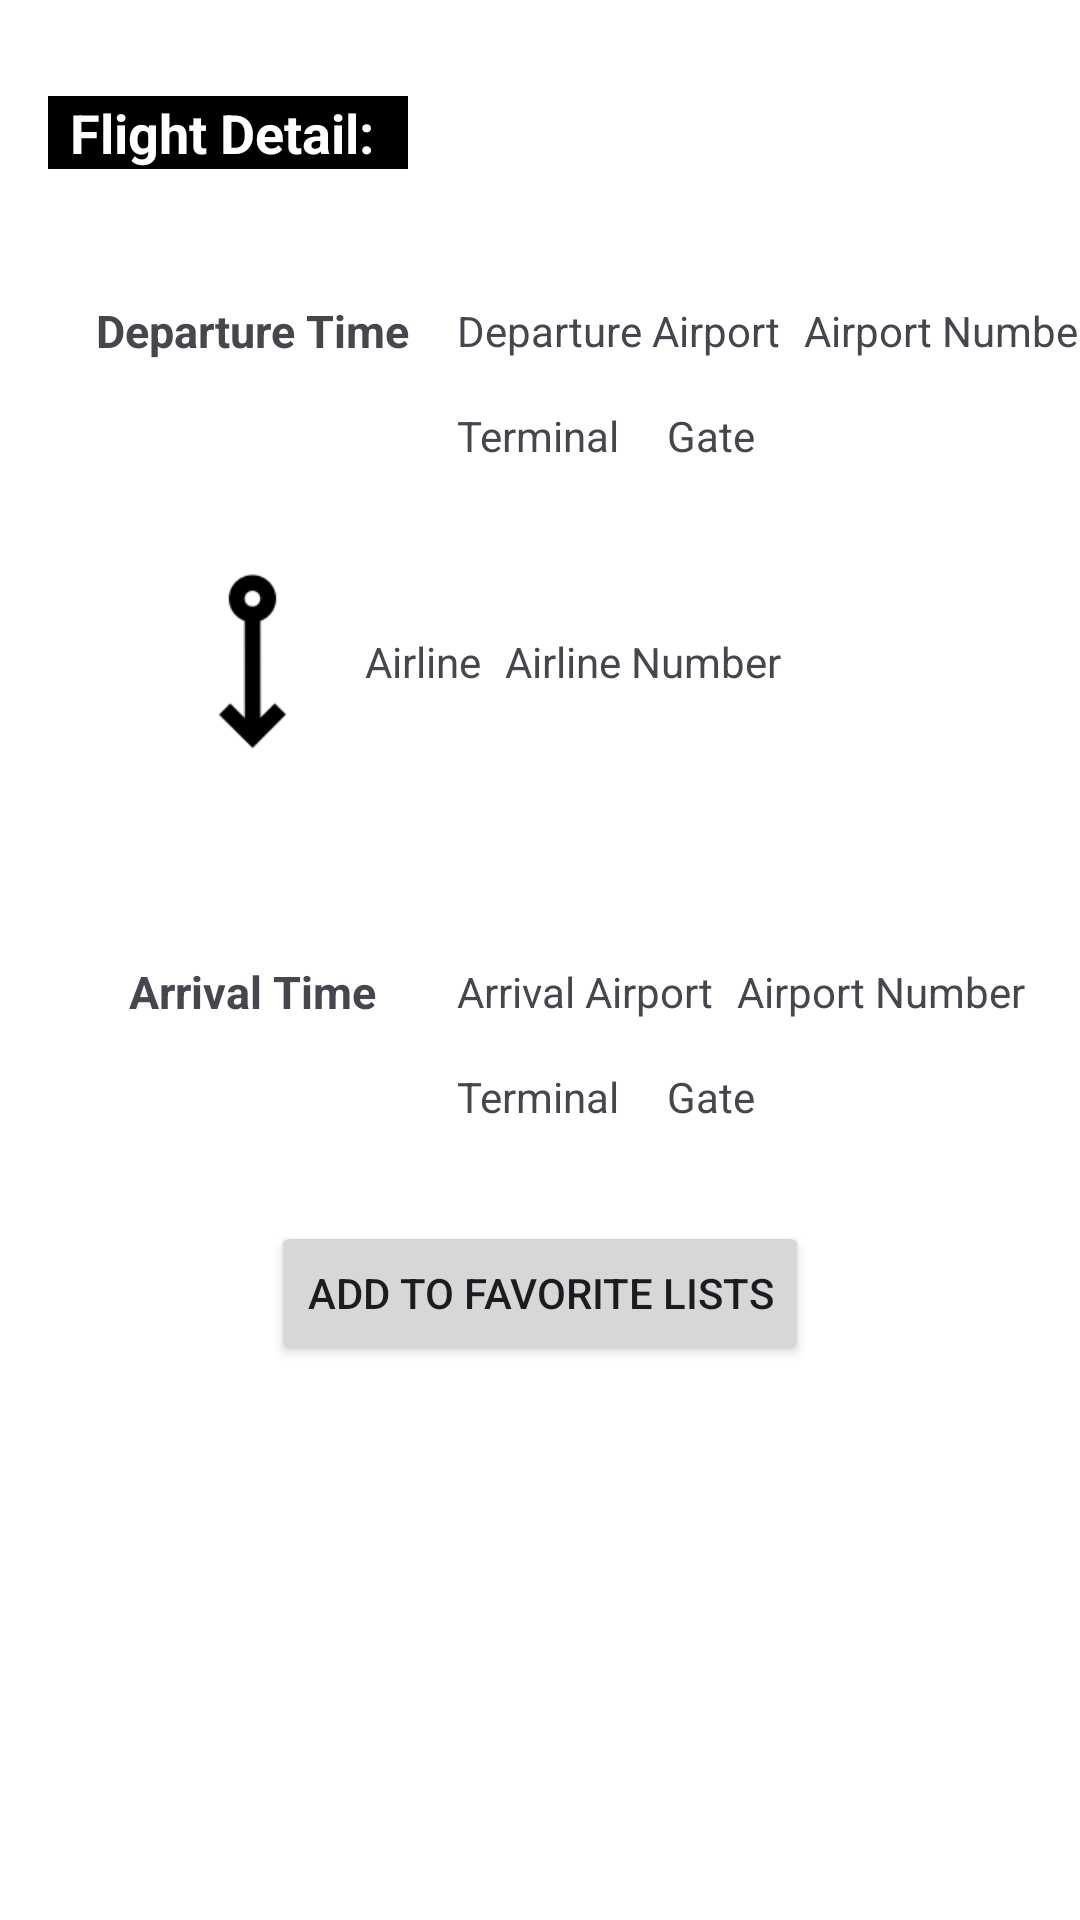

Icons on this 1080w x 1920h Android screen, each with the point to tap as [x,y]:
arrow down: [253,661]
